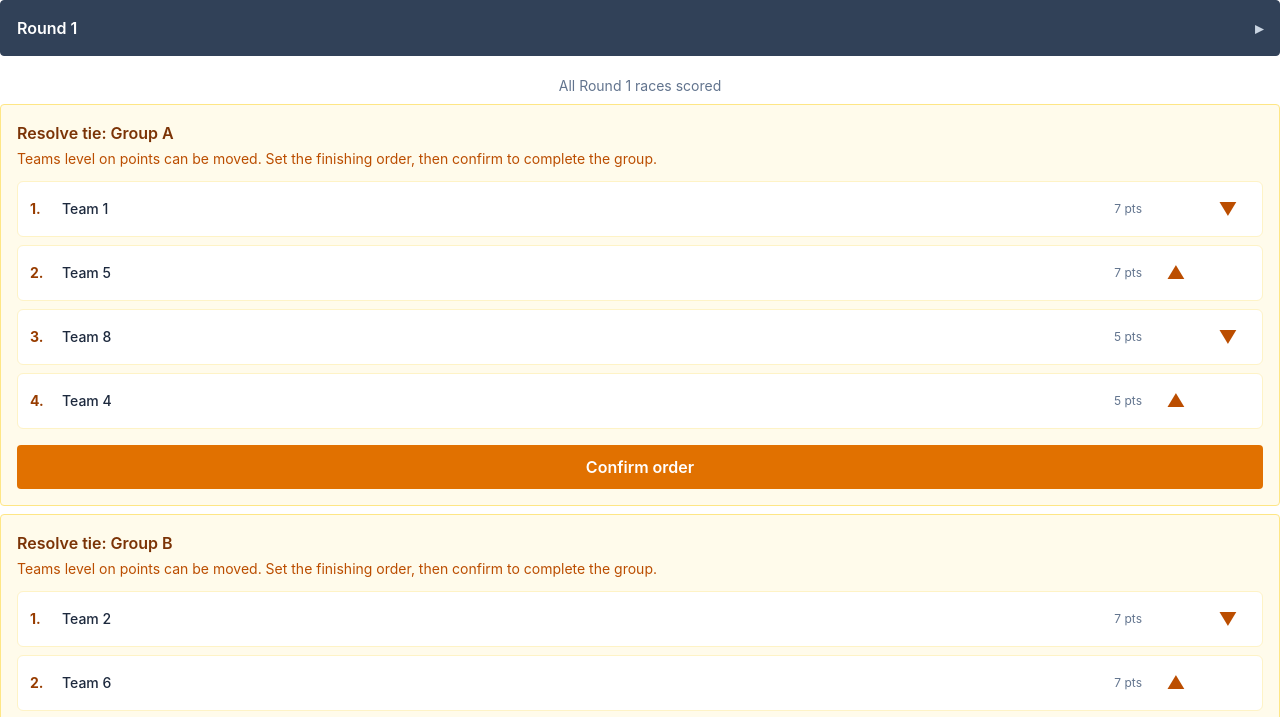
Scenario: Races tab: folding completed rounds › still renders and toggles when storage throws
This screenshot has width=1280, height=717.
Click the button "Round 1 ▸" at [47, 28], box [0, 0, 1279, 56]
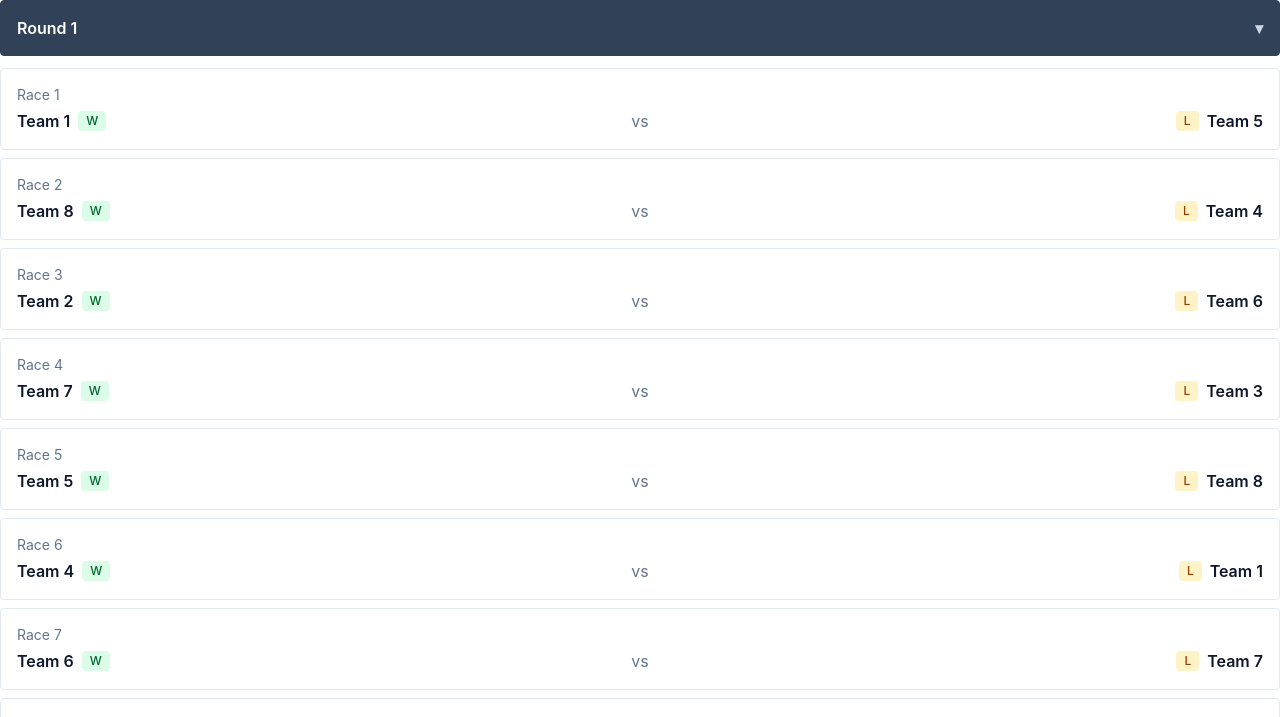
Now the button "Round 1 ▾" is expanded, box [0, 0, 1279, 56]
